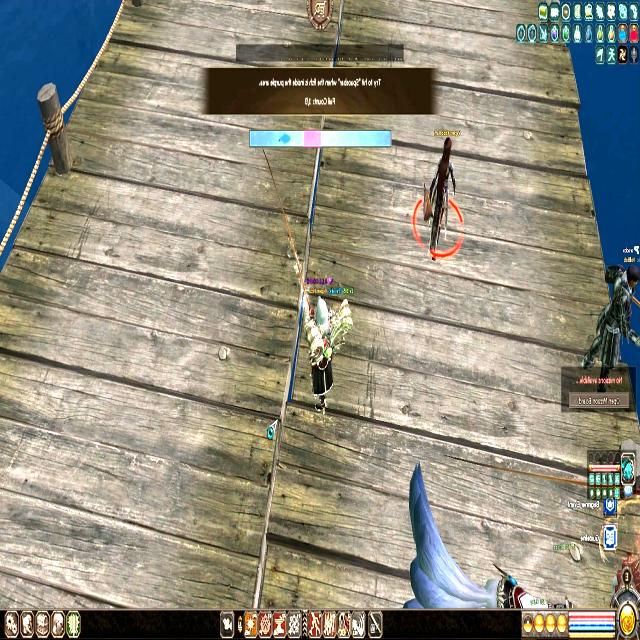fishes: (279, 132, 291, 145)
